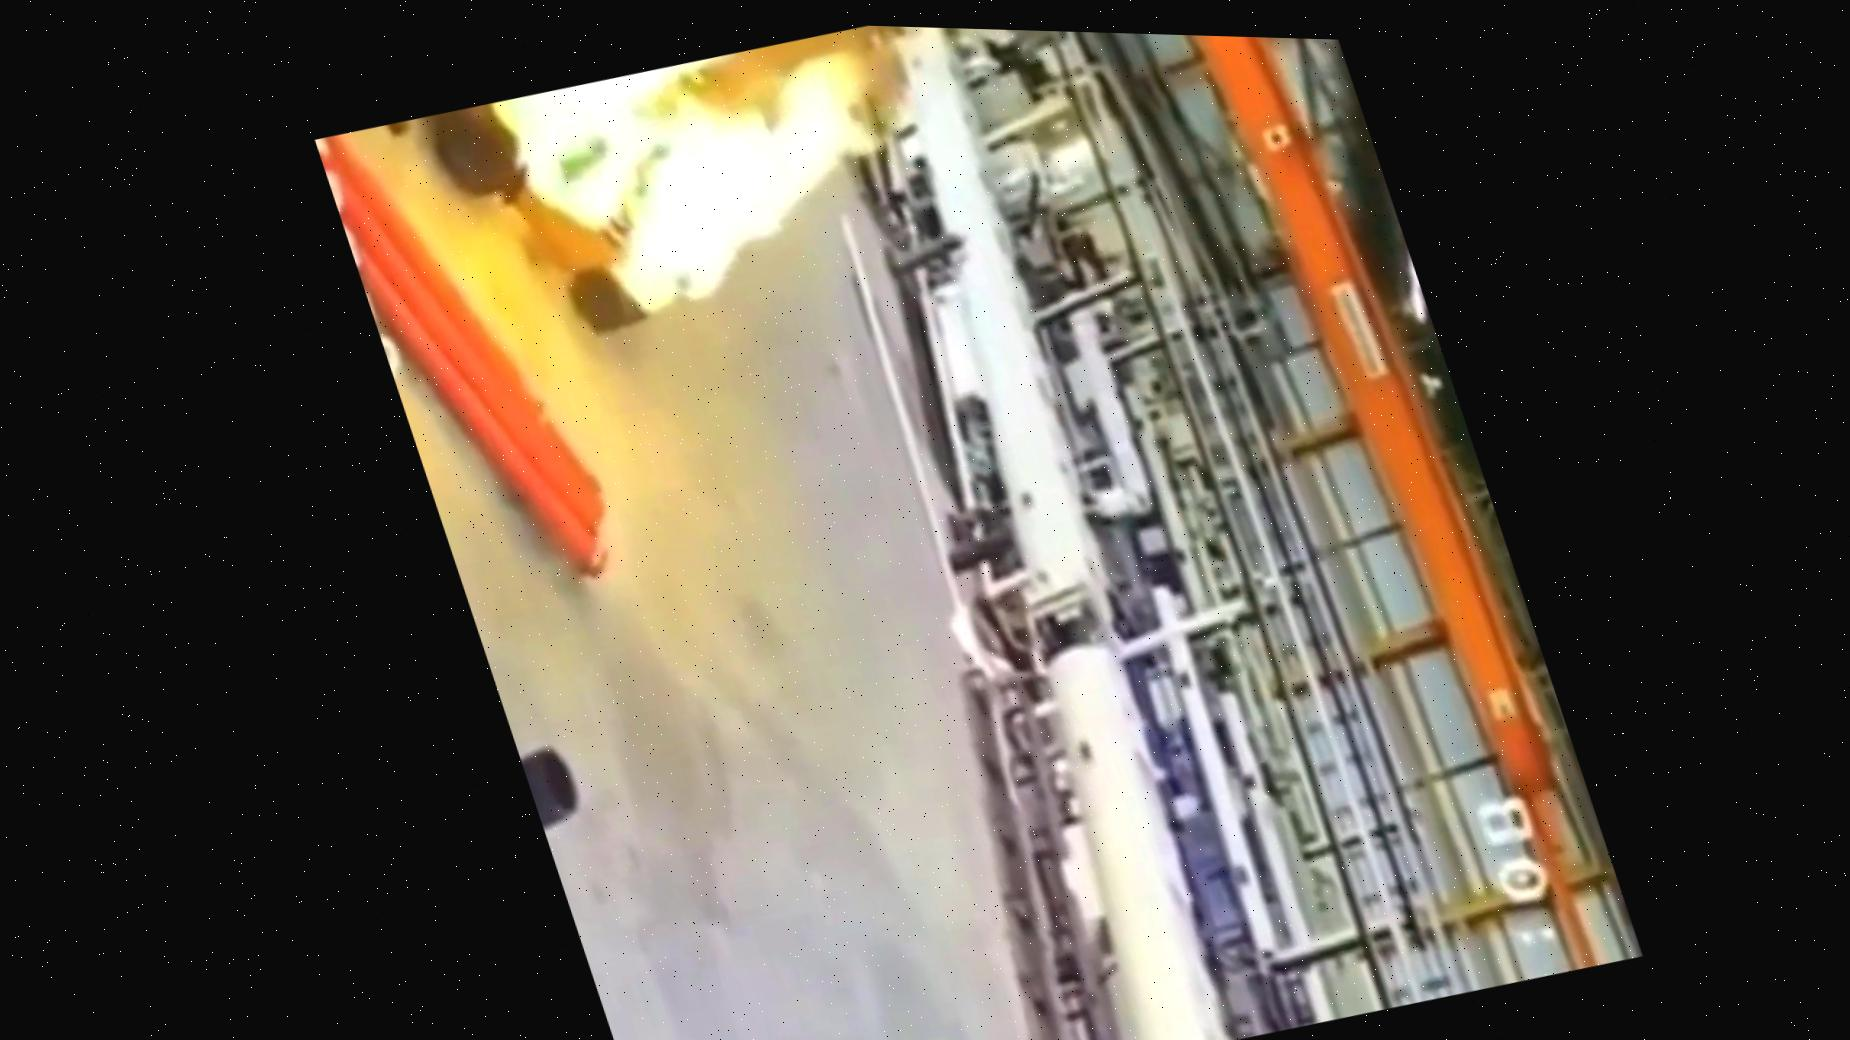fire: (334, 22, 952, 363)
